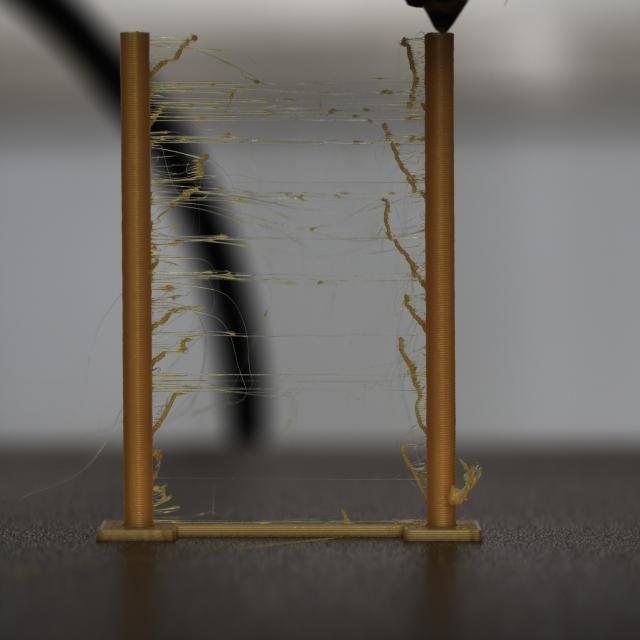Warping: (151, 40, 424, 443)
